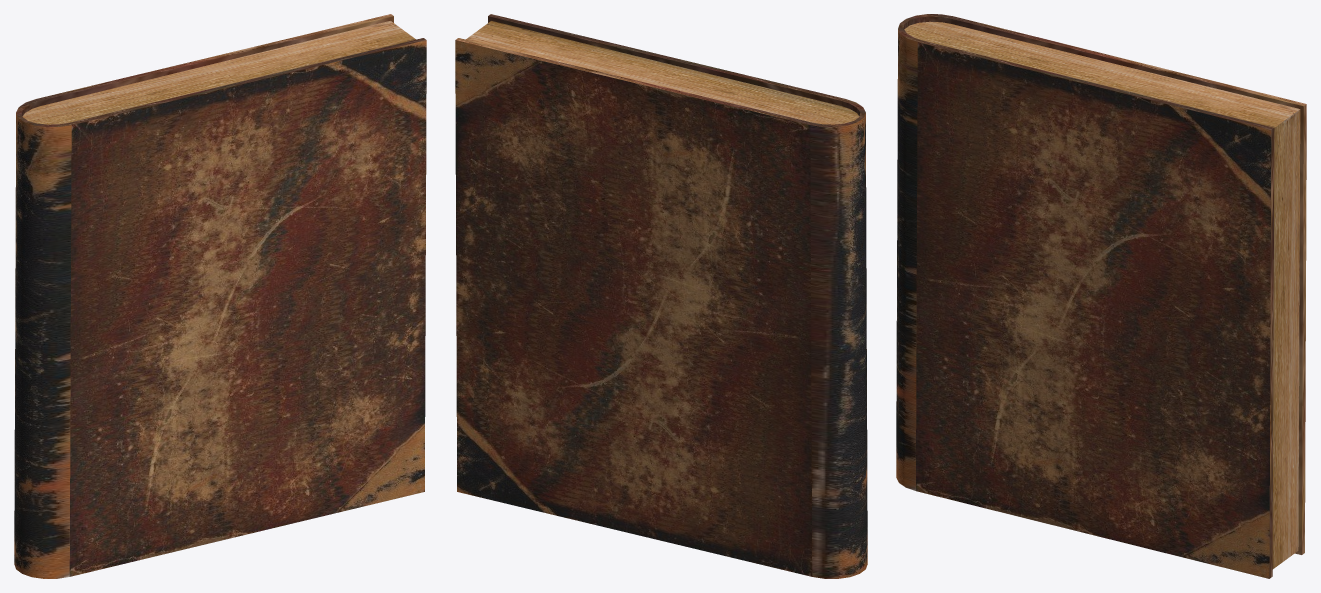
The model's file is SM_Book06.fbx.
3 renders of one model, left to right at view 1: azimuth 30°, elevation 25°; view 2: azimuth 150°, elevation 25°; view 3: azimuth 330°, elevation 25°, orthographic.
Parts seen in each view (by area): view 1: SM_Book_HP.001; view 2: SM_Book_HP.001; view 3: SM_Book_HP.001.
Part boxes in pixels (bbox=[...]): SM_Book_HP.001: bbox=[14, 14, 426, 578]; SM_Book_HP.001: bbox=[455, 14, 867, 578]; SM_Book_HP.001: bbox=[896, 14, 1306, 578].
Bounding box in the file's own units: 17.22 × 19.14 × 2.73.
Materials: 2 (2 with a texture image).
